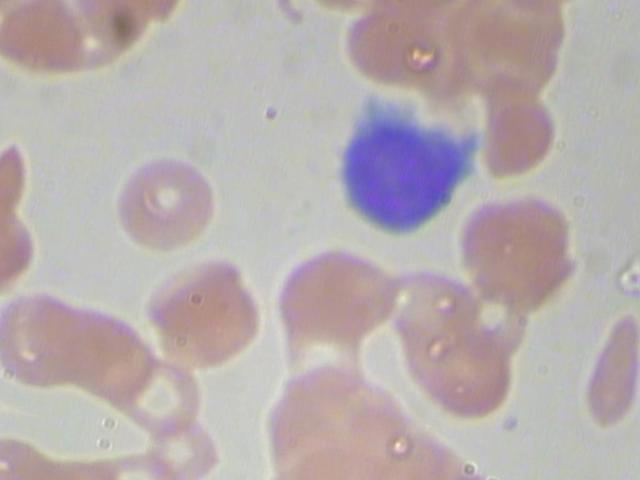RBC: (438, 174, 603, 325), (127, 237, 278, 380), (266, 223, 416, 366), (98, 140, 232, 264), (463, 84, 579, 191), (333, 2, 449, 108), (0, 283, 103, 401), (355, 0, 470, 24), (508, 0, 624, 12)
WBC: (413, 319, 529, 427)
